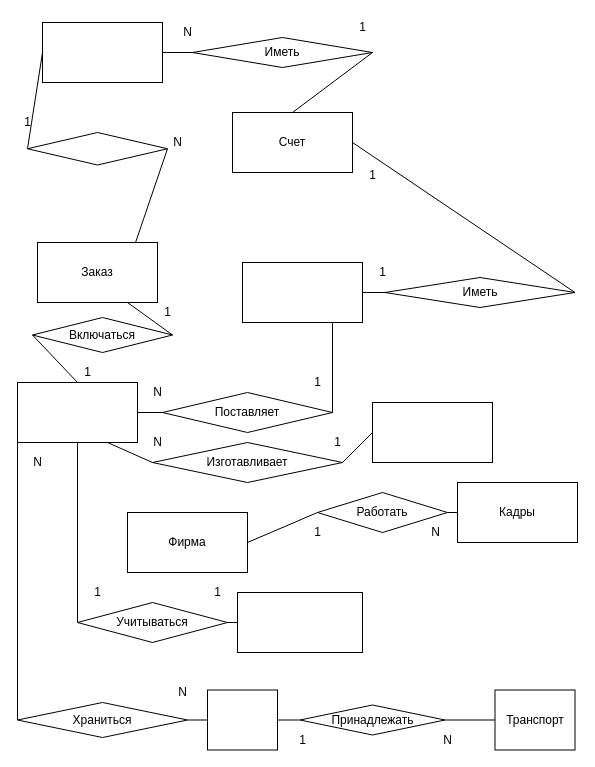
Some shapes in this 595 by 767 pixel diagram are drawn without their labels. Here are the shapes that lost their labels. From the top down, the centre of each, then its label:
the point at 102,52: Клиент
the point at 97,148: Заказывать
the point at 302,292: Поставщик
the point at 77,412: Товар
the point at 432,432: Изготовитель
the point at 299,622: Накладная
the point at 242,719: Склад
